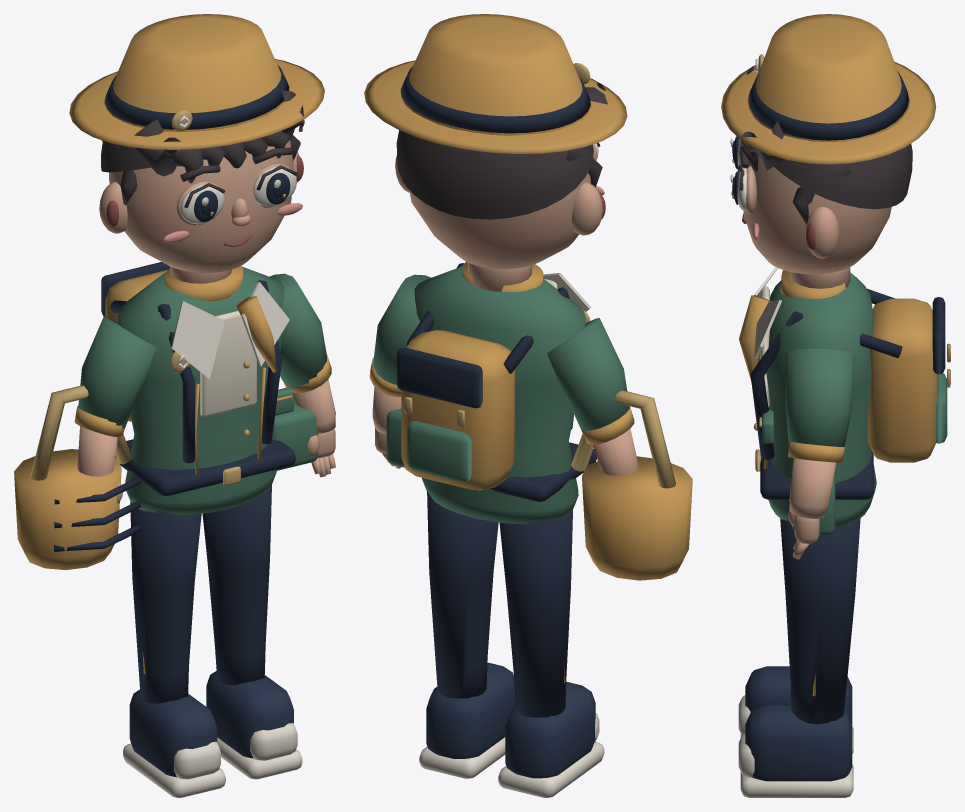
File: npc_fishing_merchant_valley.glb
The picture shows the model from 3 angles, left to right: view 1: azimuth 30°, elevation 25°; view 2: azimuth 150°, elevation 25°; view 3: azimuth 270°, elevation 25°; orthographic projection. The views are drawn at different scales.
Parts seen in each view (by area): view 1: figure.017; view 2: figure.017; view 3: figure.017.
Boxes of the visible parts, bbox=[...] form: figure.017: bbox=[14, 14, 335, 797]; figure.017: bbox=[364, 14, 692, 797]; figure.017: bbox=[721, 14, 950, 797].
Size of the model in its own units: 0.6635 by 1.48 by 0.4222.
